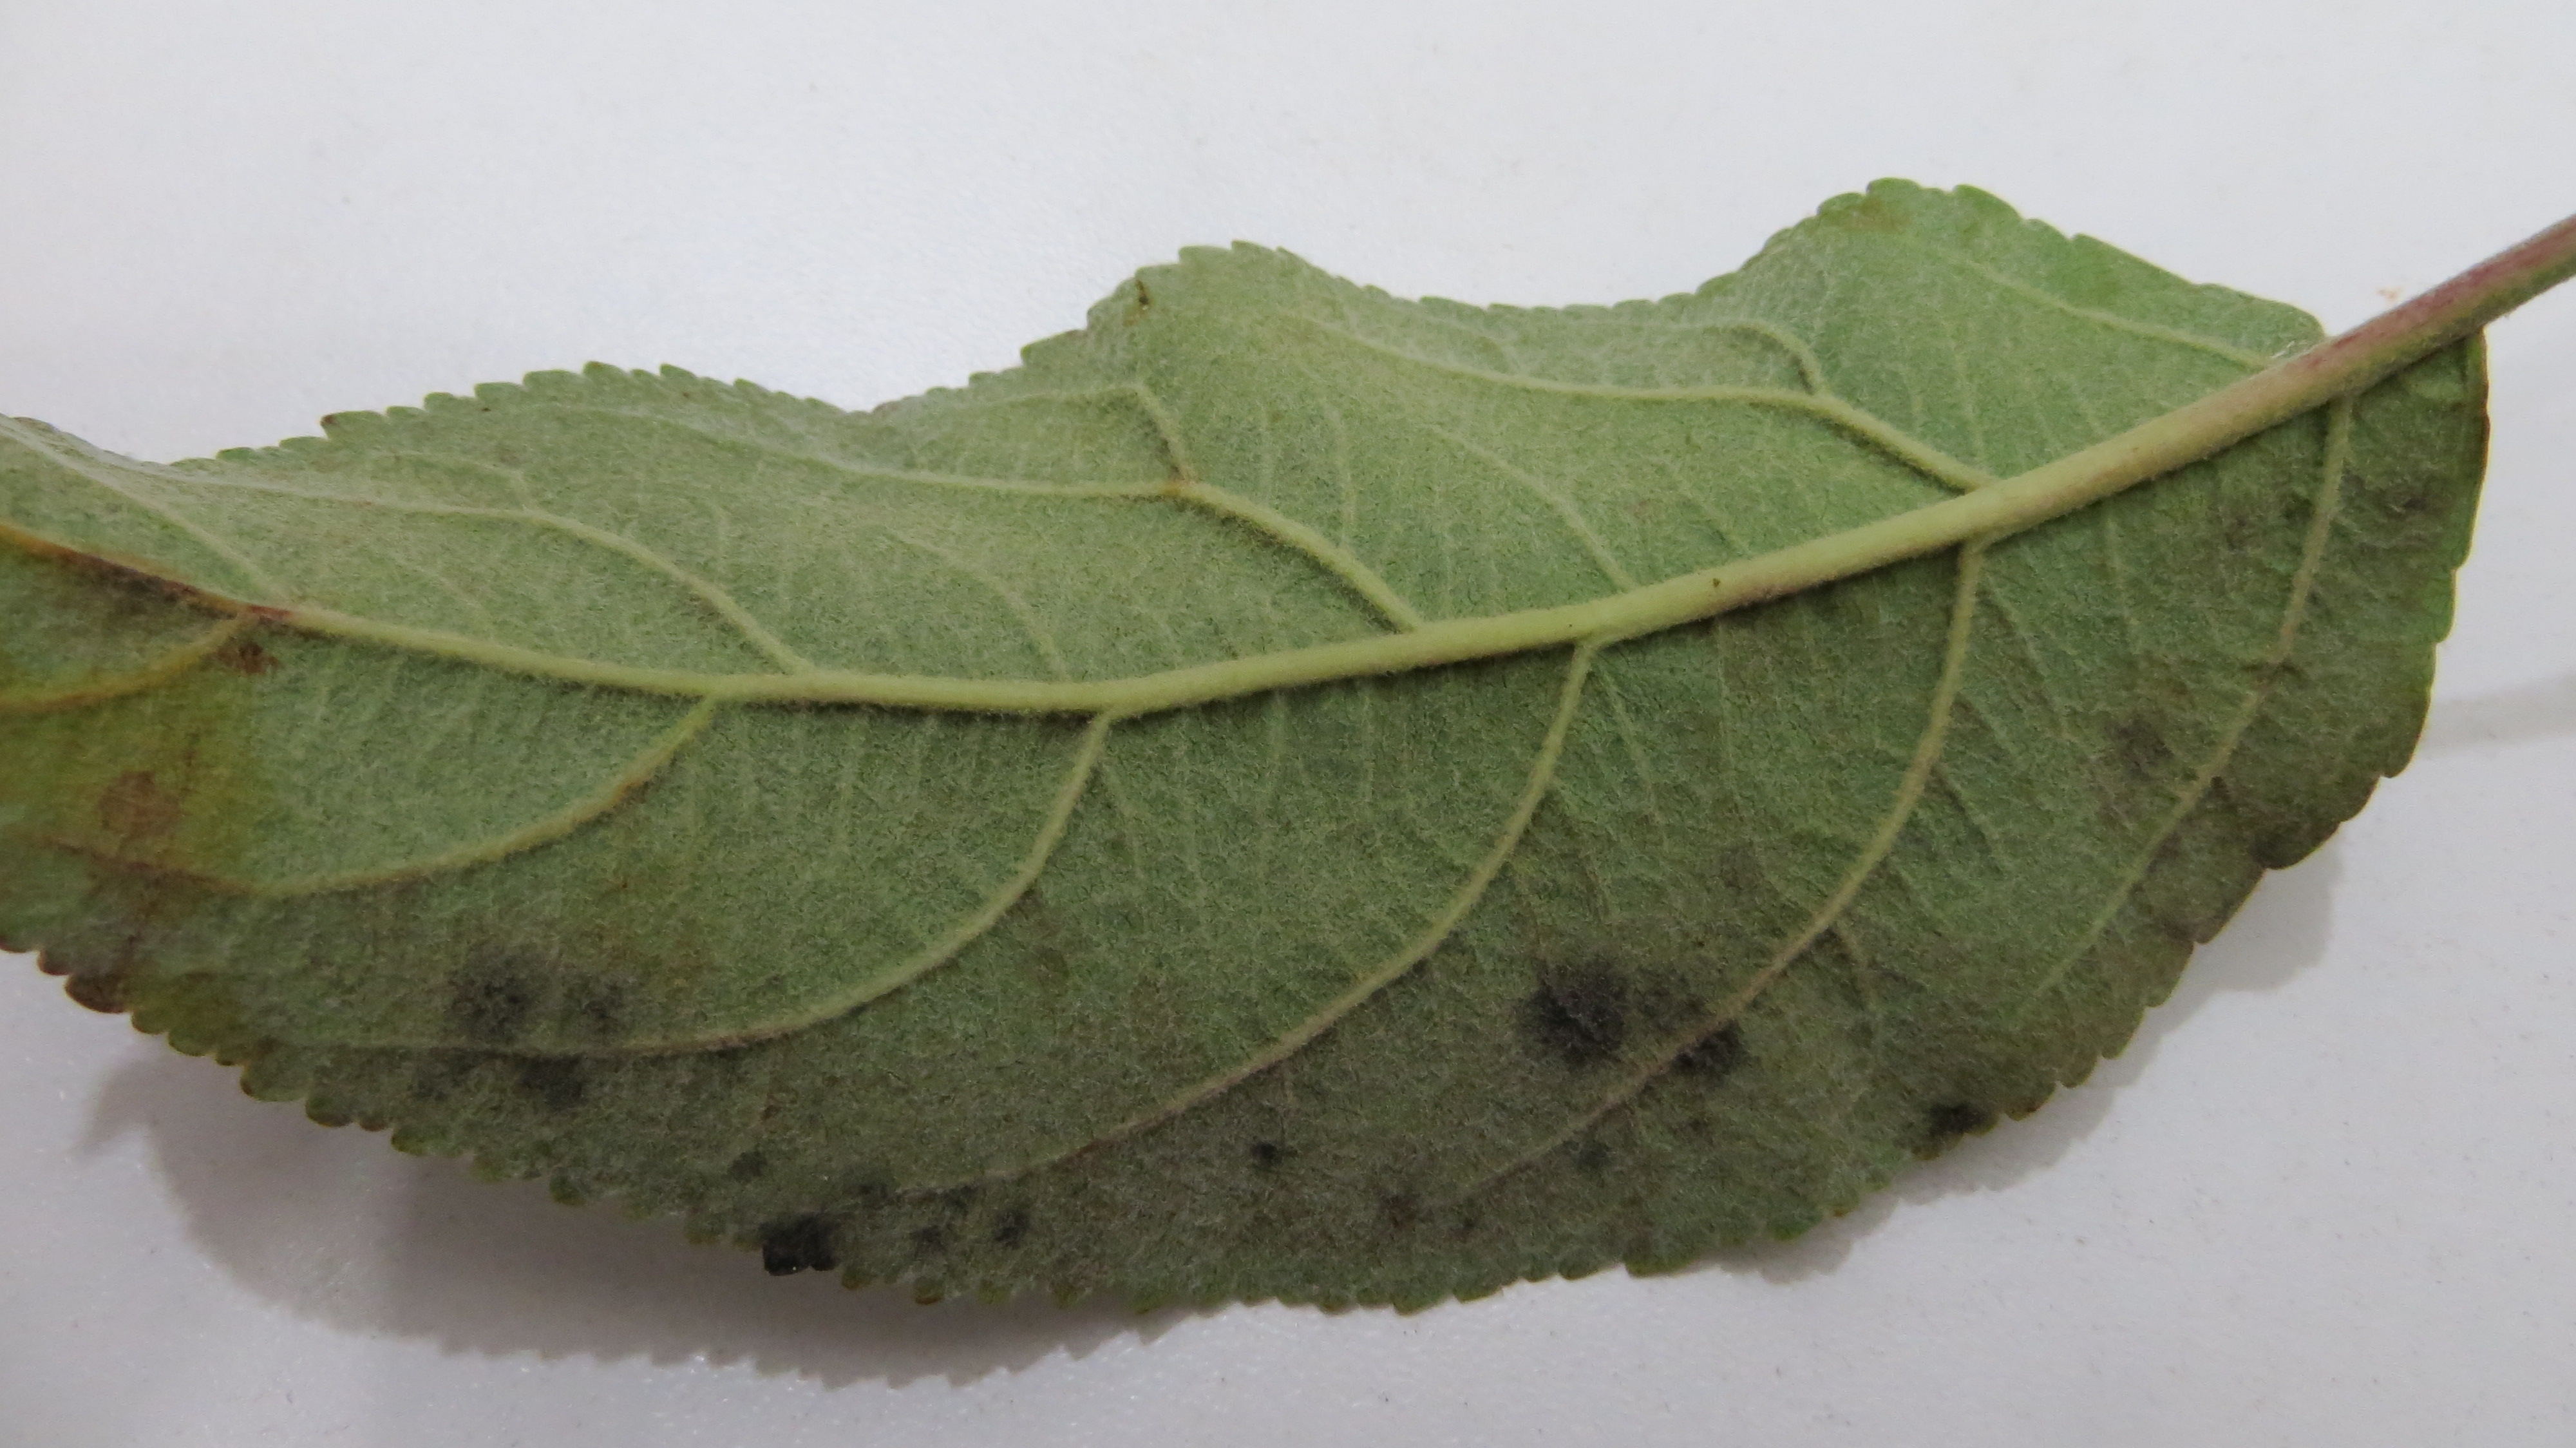sarna: (409, 931, 639, 1126), (60, 506, 285, 687), (62, 720, 228, 915), (1621, 951, 1746, 1098), (2074, 662, 2189, 820), (1507, 942, 1624, 1069), (741, 1204, 872, 1305), (2342, 450, 2456, 565), (1897, 1069, 1997, 1177), (2185, 494, 2277, 595), (702, 1126, 798, 1191), (881, 1213, 962, 1278), (1233, 1121, 1315, 1182), (975, 1184, 1031, 1260), (929, 1154, 994, 1216), (844, 1159, 901, 1216)
